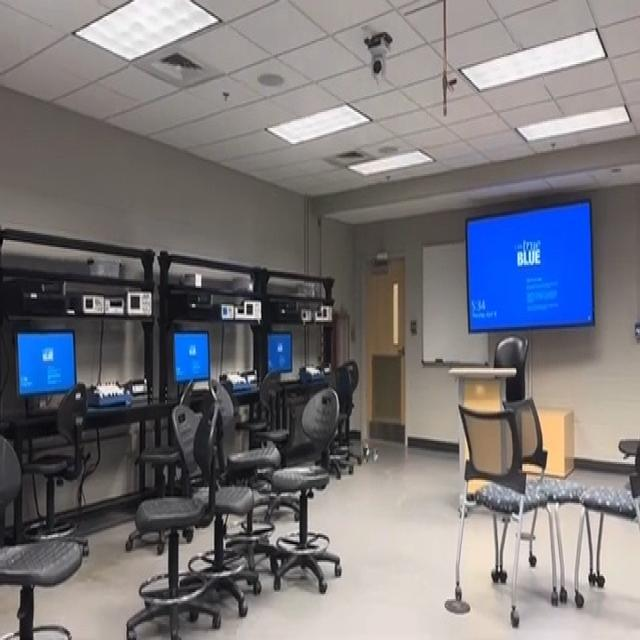drone: (351, 426, 382, 475)
